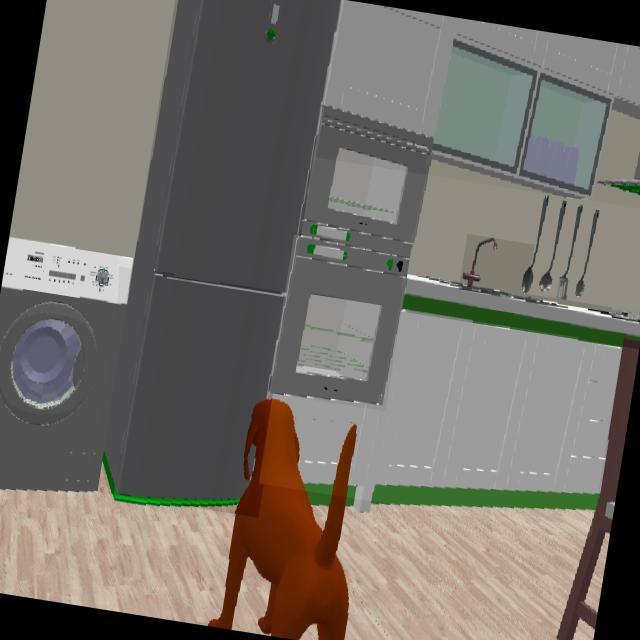cabinet: (273, 312, 621, 501), (326, 0, 640, 199)
countertop: (403, 276, 640, 346)
fridge: (105, 0, 340, 501)
microwave: (301, 107, 433, 254)
oven: (270, 236, 409, 405)
sink: (460, 238, 525, 299)
stove: (613, 310, 638, 321)
